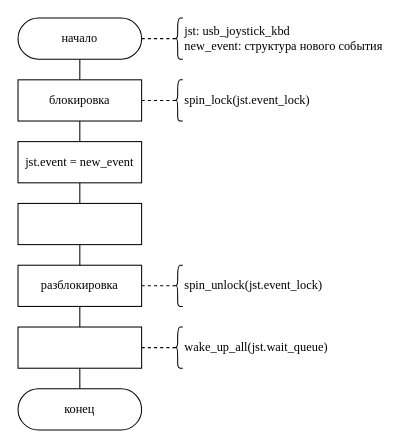
This 402x448 diagram has some shape labels left out. Here are the shapes that lost their labels. From the top down, the box of each, then its label:
(17, 202, 142, 245): jst.has_new_event = true
(17, 326, 142, 368): пробуждение ждущих процессов
